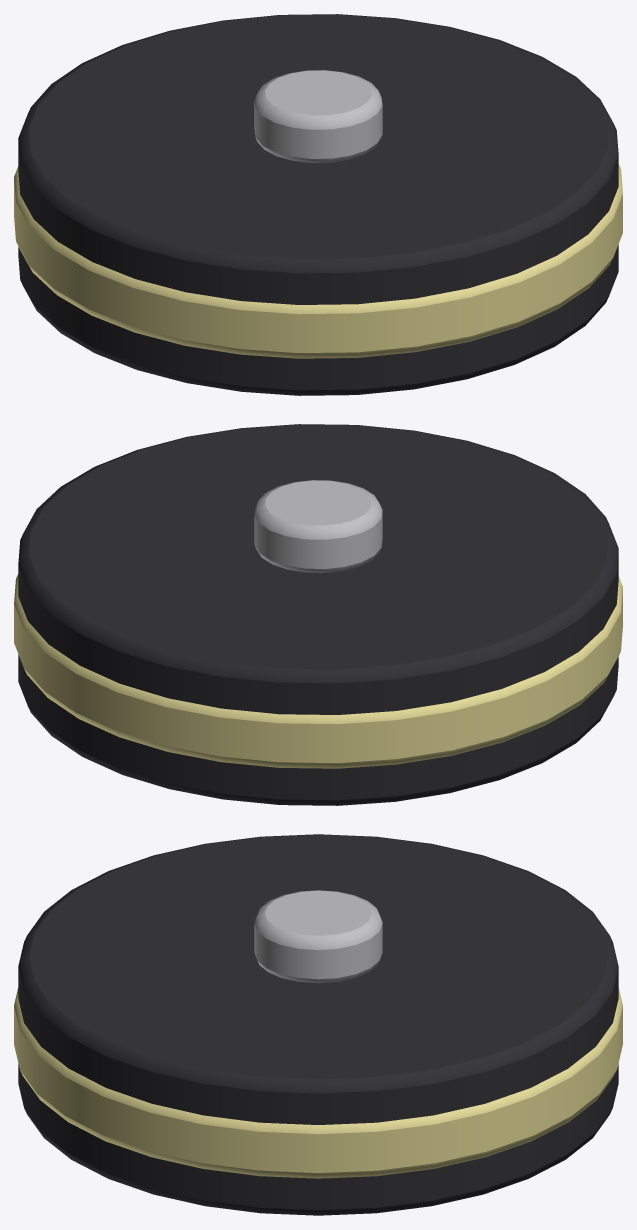
File: air_filter.glb
The picture shows the model from 3 angles, top to bottom: view 1: azimuth 30°, elevation 25°; view 2: azimuth 150°, elevation 25°; view 3: azimuth 270°, elevation 25°; orthographic projection.
Parts seen in each view (by area): view 1: air_filter; view 2: air_filter; view 3: air_filter.
Boxes of the visible parts, box(x1,y1,x2,y2) form: air_filter: box(14, 14, 622, 395); air_filter: box(14, 424, 622, 805); air_filter: box(14, 834, 622, 1215).
Bounding box in the file's own units: 0.284 × 0.0925 × 0.284.
